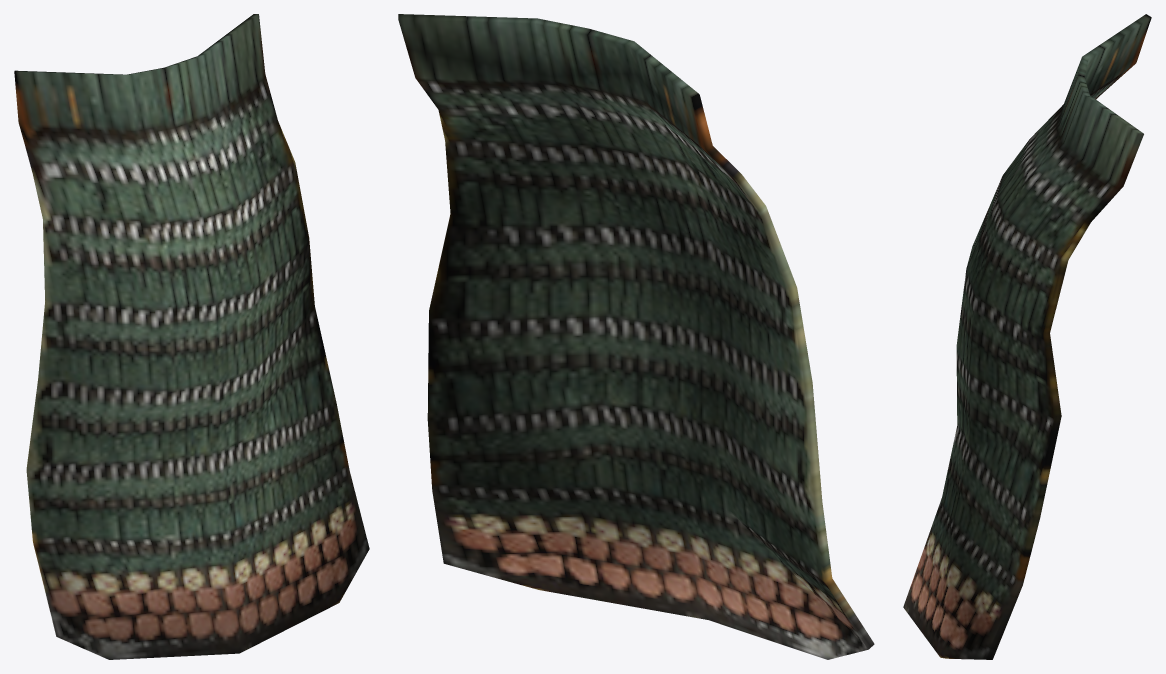
The model's file is armor_tare_C.fbx.
3 views of the same model, side by side, from view 1: azimuth 30°, elevation 25°; view 2: azimuth 150°, elevation 25°; view 3: azimuth 270°, elevation 25° (orthographic). The views are drawn at different scales.
Visible parts, largest first — view 1: armor_tare_C; view 2: armor_tare_C; view 3: armor_tare_C.
Boxes of the visible parts, left/top/right/bottom form: armor_tare_C: left=14, top=14, right=369, bottom=659; armor_tare_C: left=398, top=14, right=874, bottom=659; armor_tare_C: left=903, top=14, right=1151, bottom=659.
Size of the model in its own units: 27.83 by 42.89 by 17.81.
Materials: 1 (1 with a texture image).
